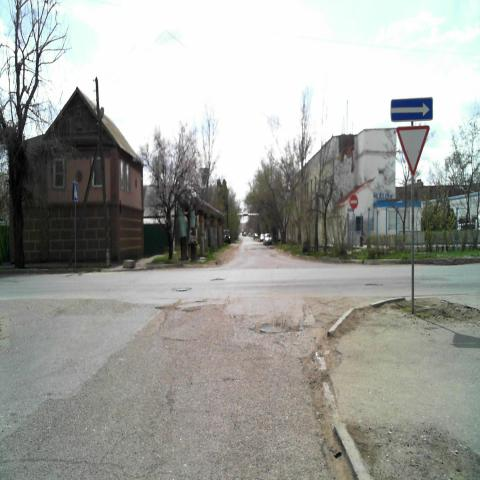5_7_1: (390, 99, 432, 122)
